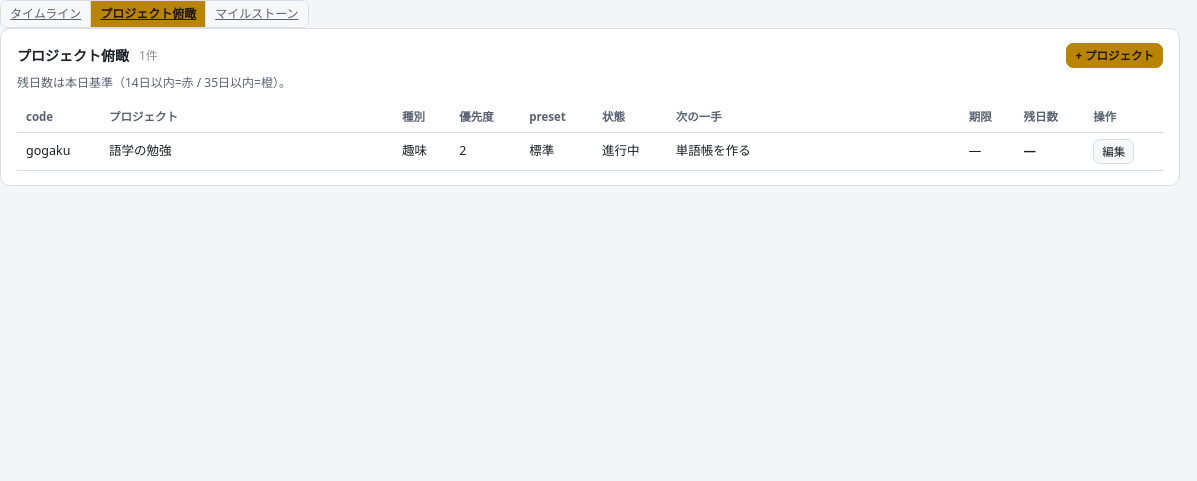
it: Plan — プロジェクト俯瞰（ADR-013 D1: 作成・変更を画面から） › 行の「編集」を開くと code の入力欄は出ない（作成時のみ変更可能という制約）
Expected: the text "語学の勉強" is shown, [100,132,393,170]
Click the button "編集": x=1114, y=151 [1093,138,1134,164]
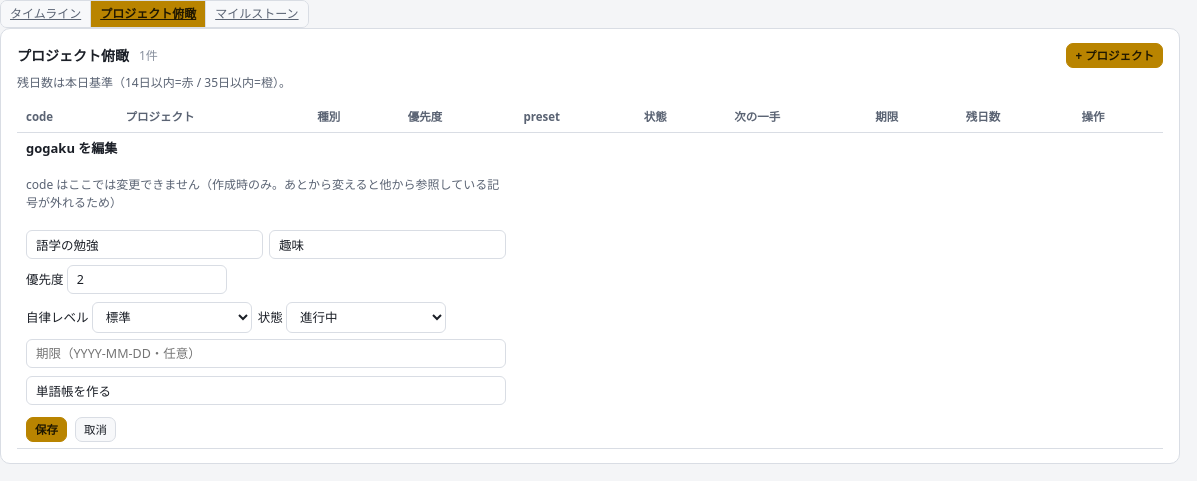
Result: the heading "gogaku を編集" is shown at [26,138,117,158]
Result: the text "code はここでは変更できません（作成時のみ。あとから変えると他から参照している記号が外れるため）" is shown at [26,176,506,212]
